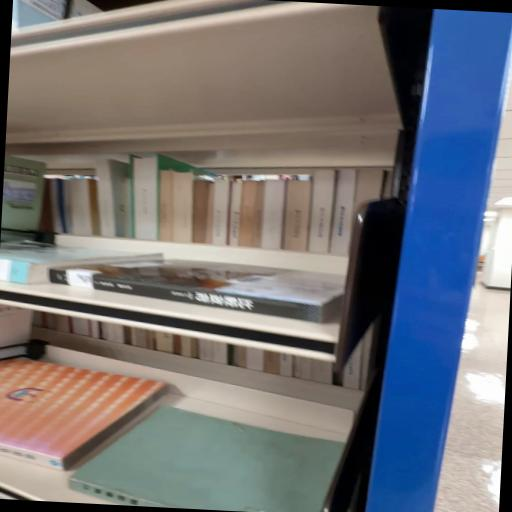flat: (70, 407, 343, 512), (50, 261, 346, 324), (1, 359, 167, 471)
